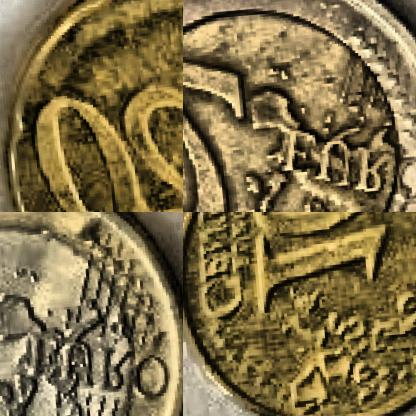coin: (183, 0, 415, 211), (183, 212, 415, 415), (0, 0, 182, 211), (0, 212, 182, 415)
